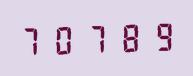eight: (111, 19, 141, 54)
nine: (142, 18, 172, 53)
seven: (18, 22, 48, 57), (80, 20, 110, 55)
zero: (49, 21, 79, 56)
